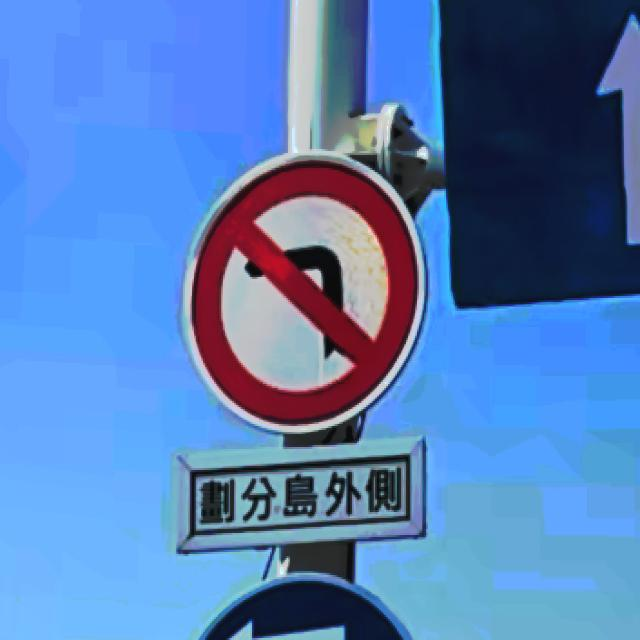noturnleft: (190, 159, 417, 424)
